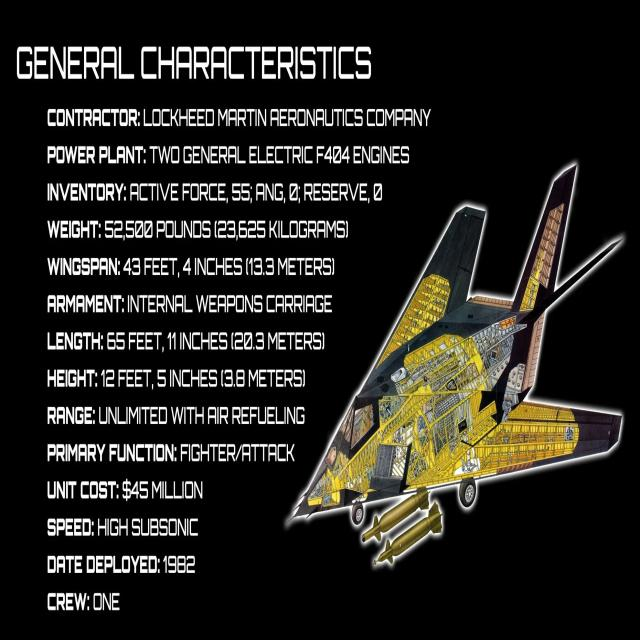F117: (250, 139, 640, 587)
